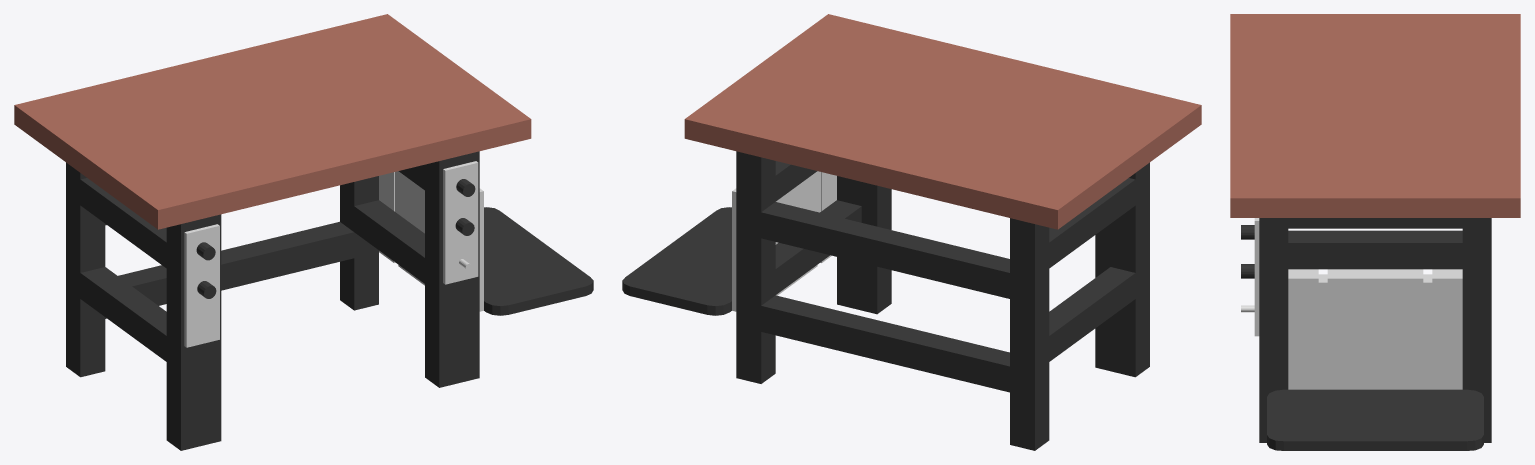
The model's file is PH_SUPPORT_TABLE_GRAVEUR MACHINE.fbx.
The picture shows the model from 3 angles, left to right: view 1: azimuth 30°, elevation 25°; view 2: azimuth 150°, elevation 25°; view 3: azimuth 270°, elevation 25°; orthographic projection.
Visible parts, largest first — view 1: Cube.015; view 2: Cube.015; view 3: Cube.015.
Boxes of the visible parts, bbox=[...] form: Cube.015: bbox=[14, 14, 593, 450]; Cube.015: bbox=[622, 14, 1201, 450]; Cube.015: bbox=[1230, 14, 1520, 450].
Bounding box in the file's own units: 184 × 100 × 100.
